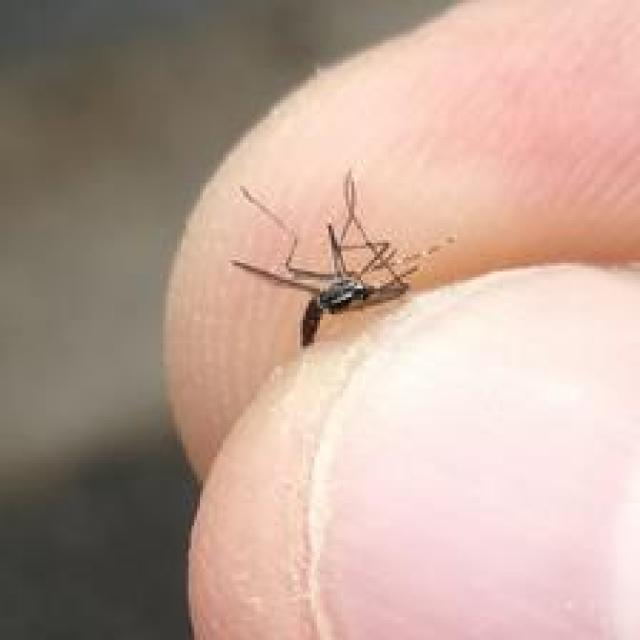Aedes albopictus: (229, 167, 454, 350)
